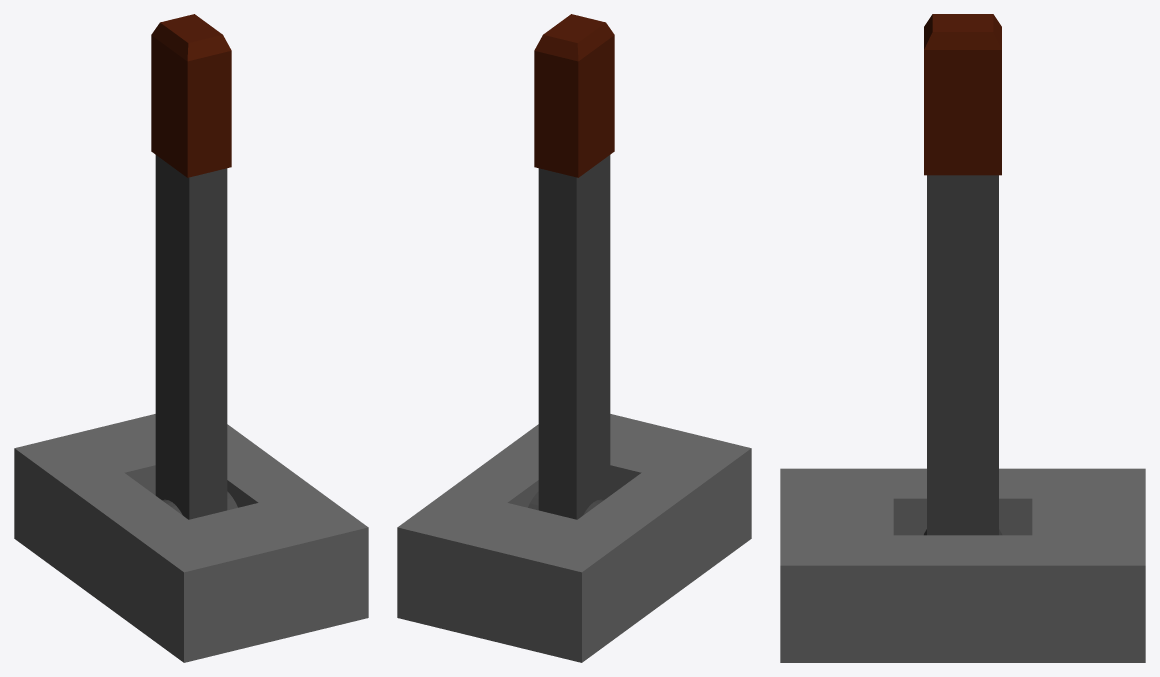
The model's file is BrownLeverWB.glb.
3 views of the same model, side by side, from view 1: azimuth 30°, elevation 25°; view 2: azimuth 150°, elevation 25°; view 3: azimuth 270°, elevation 25° (orthographic). The views are drawn at different scales.
Parts seen in each view (by area): view 1: Base, Handle, Top; view 2: Base, Handle, Top; view 3: Base, Handle, Top.
Boxes of the visible parts, x1,y1,x2,y2 form: Base: (14, 414, 368, 662); Handle: (155, 155, 237, 519); Top: (151, 14, 231, 177); Base: (397, 414, 751, 662); Handle: (528, 155, 610, 519); Top: (534, 14, 614, 177); Base: (780, 468, 1145, 662); Handle: (924, 175, 1001, 535); Top: (924, 14, 1001, 175).
Size of the model in its own units: 0.38 by 1.08 by 0.6054.
